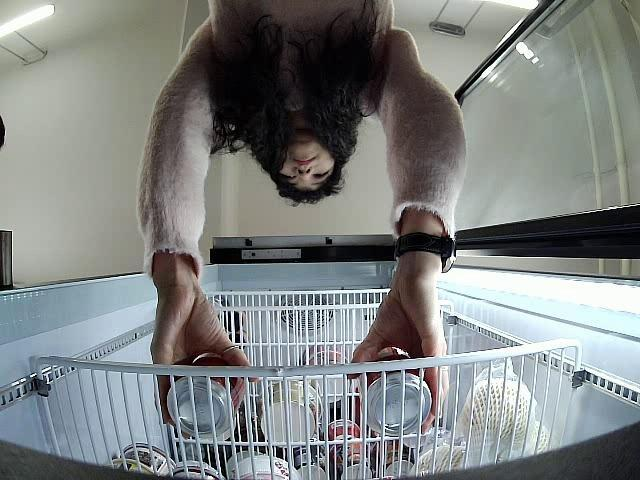11_cocaColaZero: (349, 348, 432, 437), (166, 353, 248, 440)
